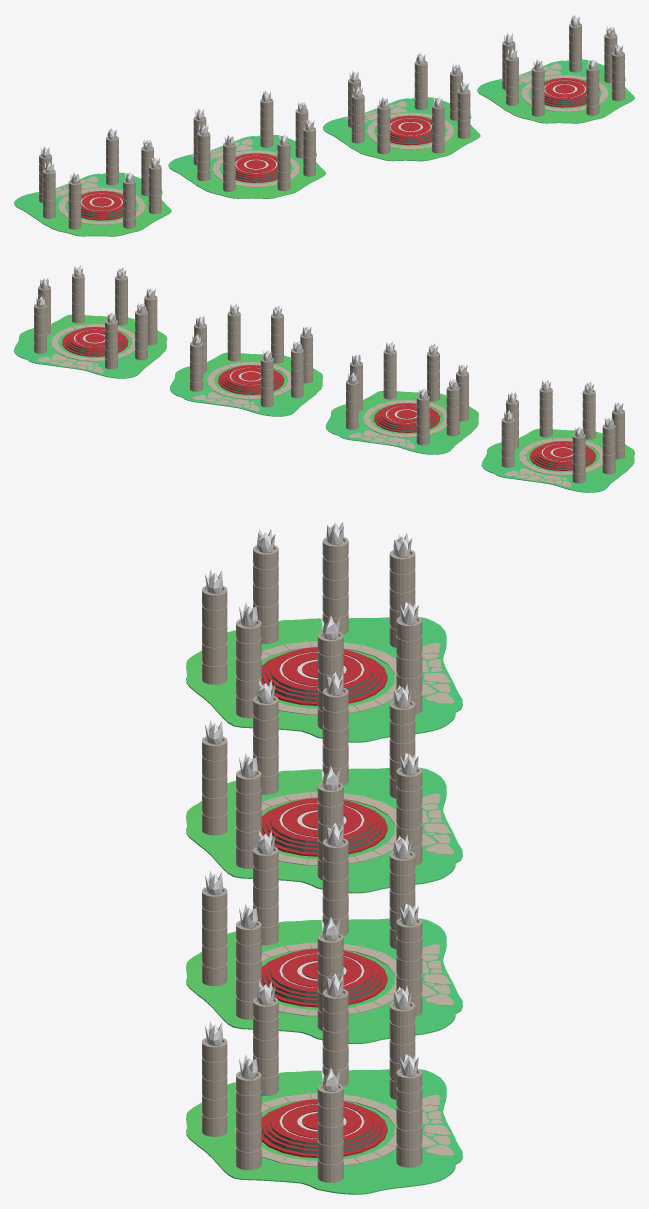
The model's file is Teletransport_D6.fbx.
The picture shows the model from 3 angles, top to bottom: view 1: azimuth 30°, elevation 25°; view 2: azimuth 150°, elevation 25°; view 3: azimuth 270°, elevation 25°; orthographic projection. The views are drawn at different scales.
Parts seen in each view (by area): view 1: Circle.292; view 2: Circle.292; view 3: Circle.292.
Part boxes in pixels (bbox=[...]): Circle.292: bbox=[14, 15, 634, 236]; Circle.292: bbox=[14, 265, 634, 492]; Circle.292: bbox=[186, 521, 462, 1194].
Size of the model in its own units: 10655 by 929 by 2157.
3 materials, 2 textured.
